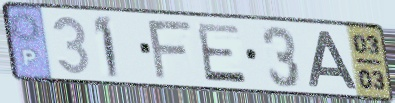1: (91, 14, 122, 80)
3: (261, 23, 302, 90), (50, 13, 93, 76)
A: (305, 29, 360, 91)
E: (194, 21, 250, 85)
F: (145, 19, 196, 82)
